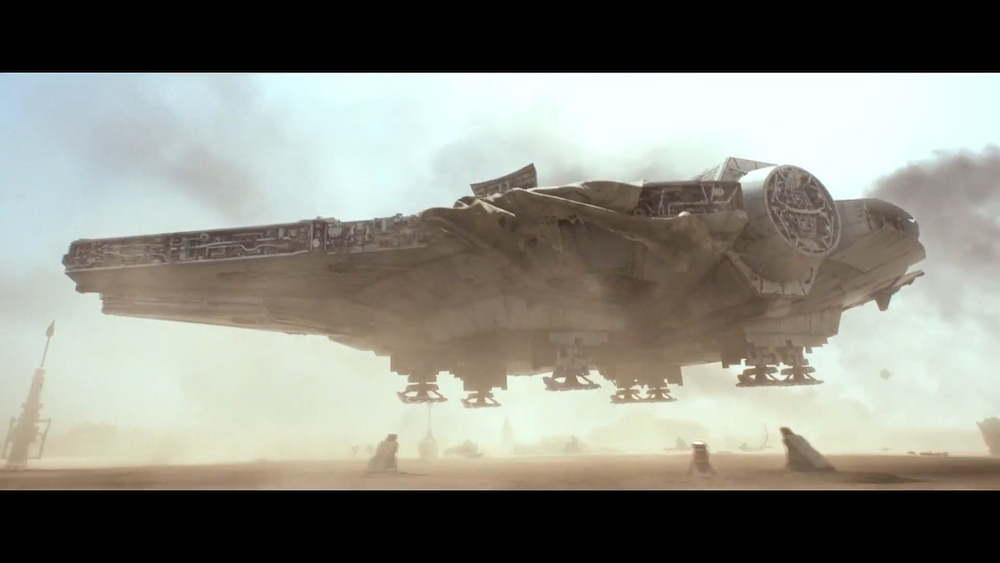Millennium Falcon: (62, 158, 928, 375)
